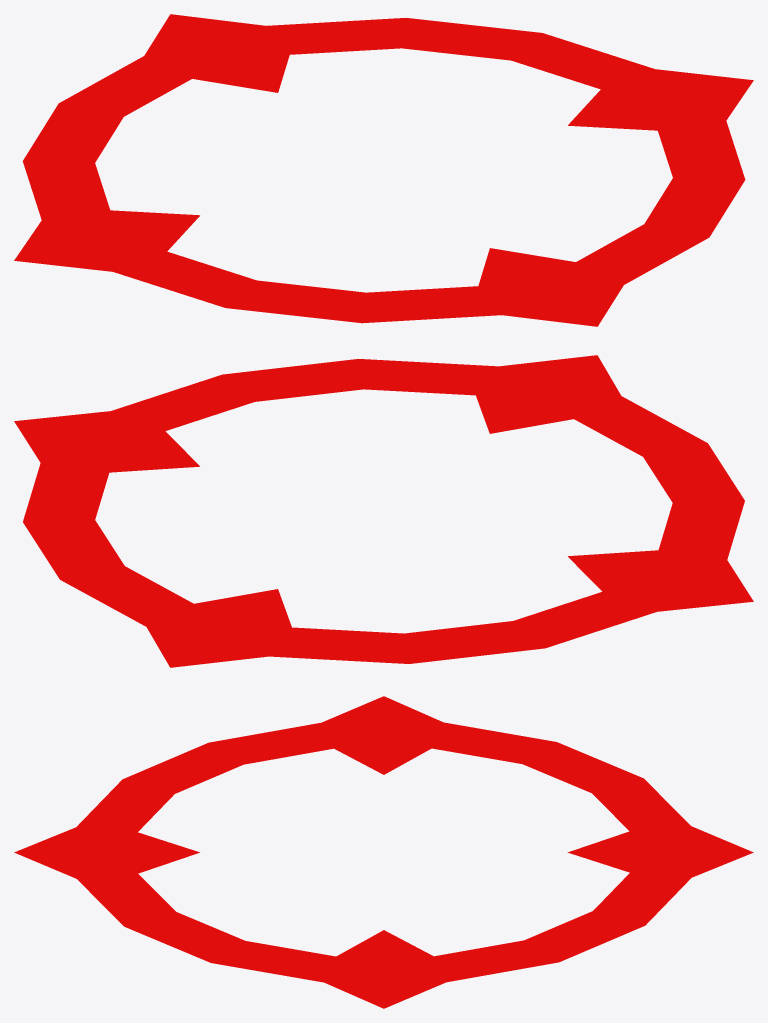
The model's file is PlayerTargetMarker.fbx.
3 renders of one model, top to bottom at view 1: azimuth 30°, elevation 25°; view 2: azimuth 150°, elevation 25°; view 3: azimuth 270°, elevation 25°, orthographic. The views are drawn at different scales.
Parts seen in each view (by area): view 1: PlayerTargetMarker; view 2: PlayerTargetMarker; view 3: PlayerTargetMarker.
Boxes of the visible parts, x1,y1,x2,y2 form: PlayerTargetMarker: (14, 14, 753, 326); PlayerTargetMarker: (14, 355, 753, 667); PlayerTargetMarker: (14, 696, 753, 1008).
Bounding box in the file's own units: 2.36 × 0 × 2.36.
